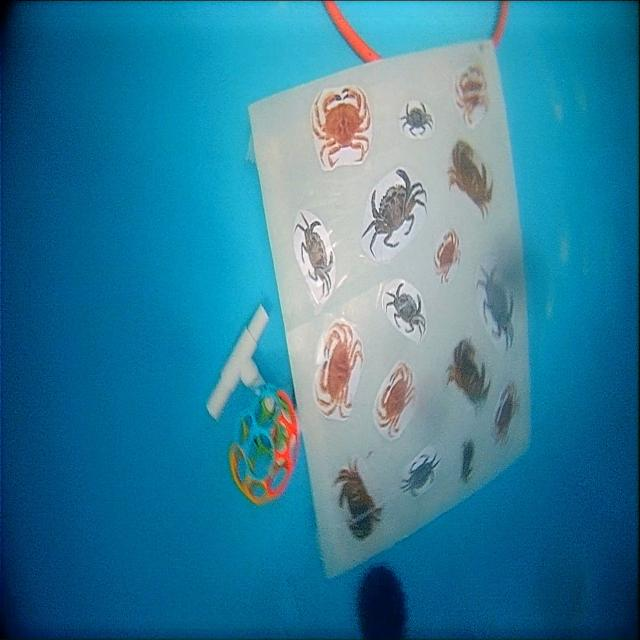GreenCrab: (362, 168, 426, 257), (294, 214, 333, 296), (477, 266, 513, 351), (385, 283, 425, 336), (400, 446, 440, 497), (400, 103, 433, 135)
